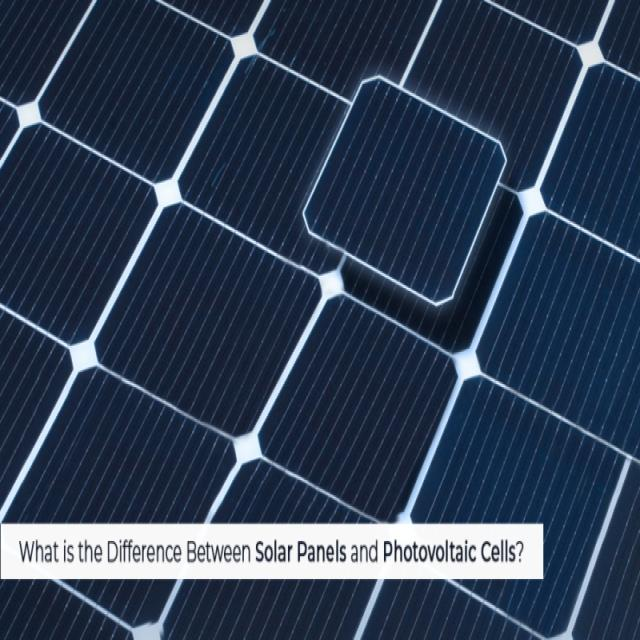clean-solar-panel: (1, 2, 640, 638)
